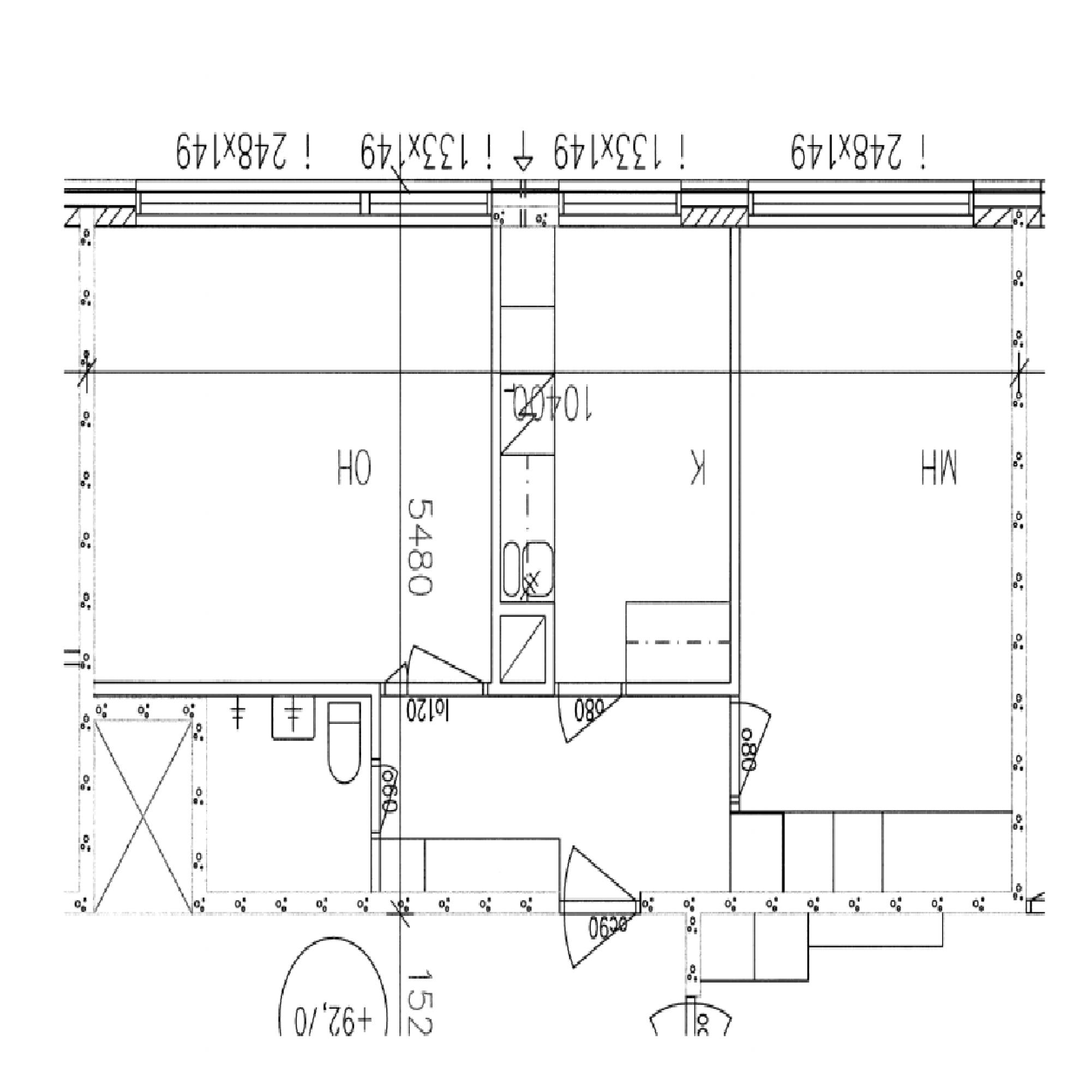wall: (79, 180, 1028, 227), (192, 891, 1027, 914), (1012, 180, 1027, 914), (207, 681, 739, 697), (79, 180, 94, 719), (730, 180, 739, 813), (491, 180, 501, 697), (79, 681, 207, 719), (192, 681, 206, 914), (371, 681, 381, 914)
